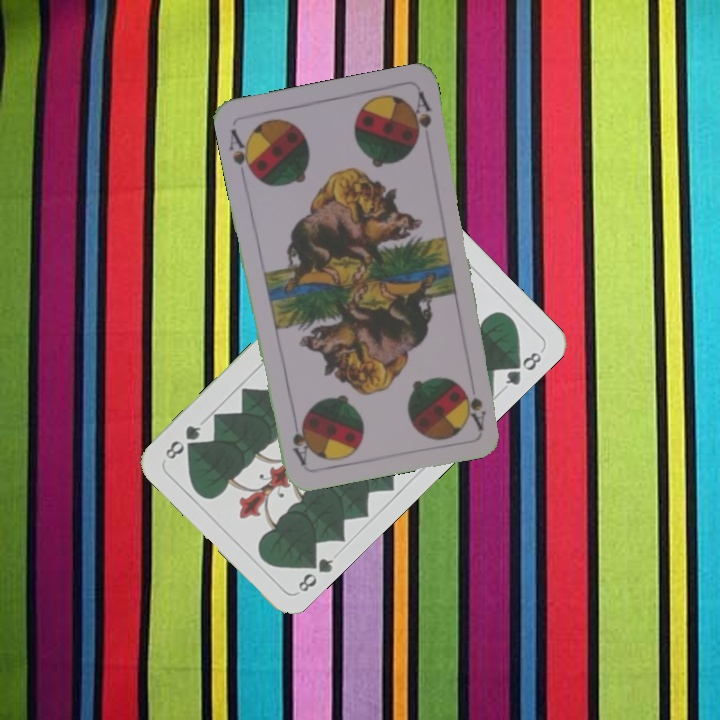G8: (294, 550, 337, 595)
SA: (225, 124, 258, 180), (462, 389, 489, 432)
